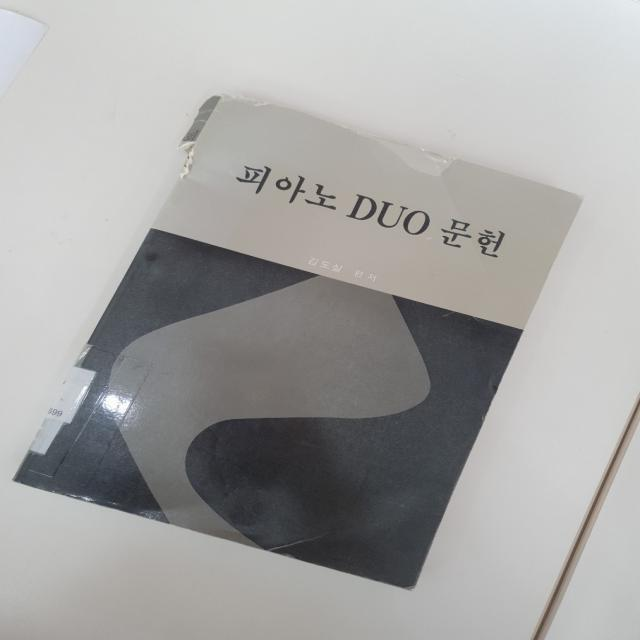Ripped: (173, 93, 289, 181), (344, 126, 465, 180)
Wornout: (374, 576, 421, 593), (278, 552, 301, 561)
